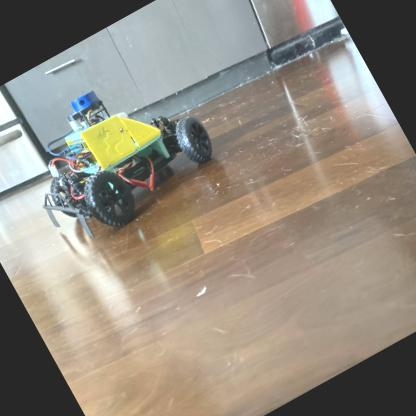mushr_car: (0, 43, 234, 260)
